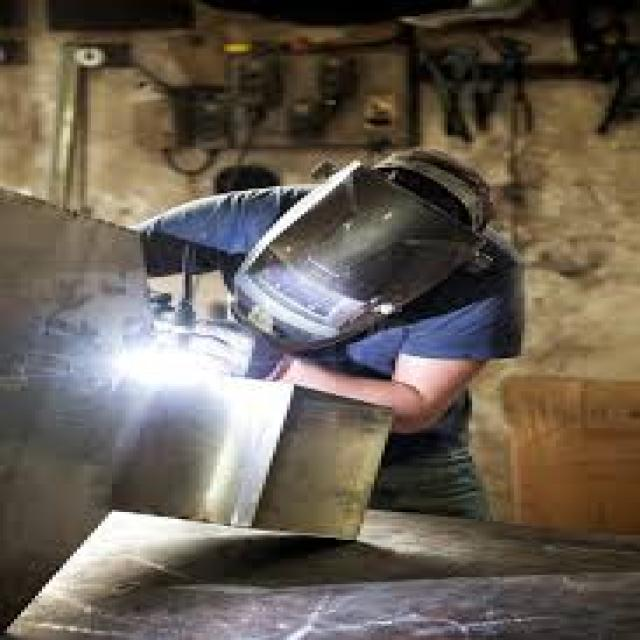welding: (116, 343, 193, 382)
